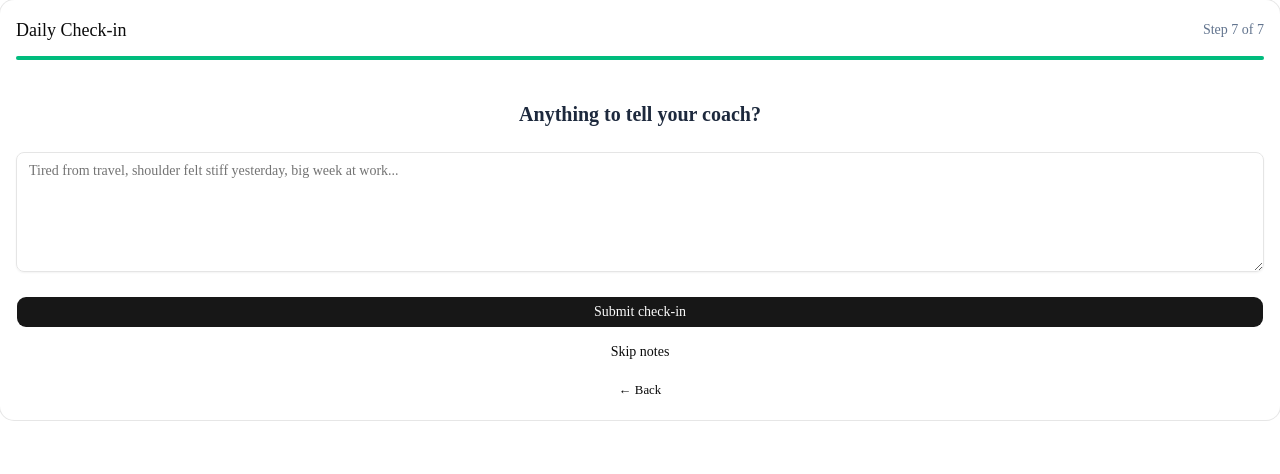
Test case: ReadinessForm — submission › shows error message on 409 response
Click the button "Submit check-in" at (640, 312), box [16,296,1264,328]
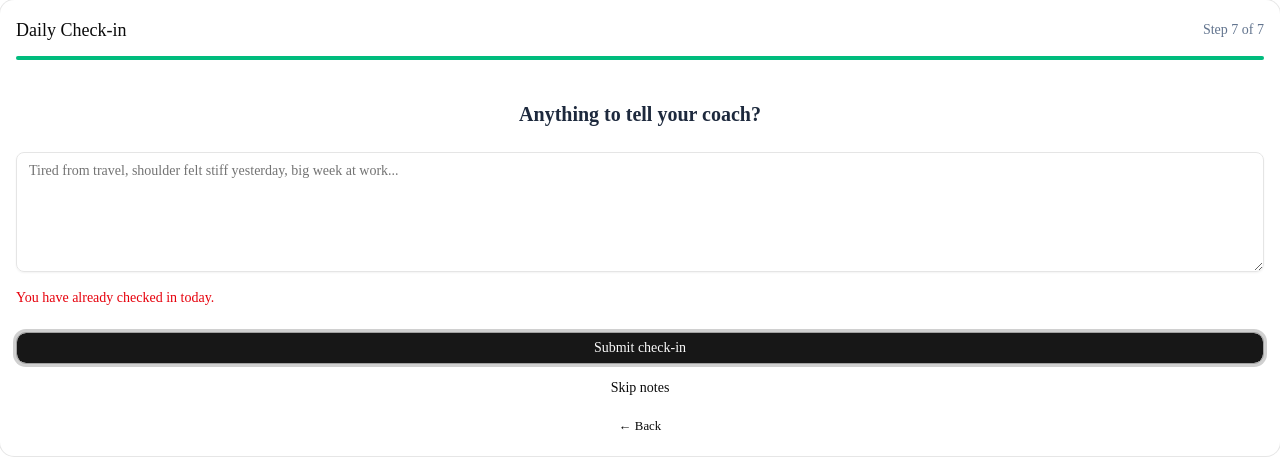
Result: the text "You have already checked in today." is shown at [16,290,214,305]
